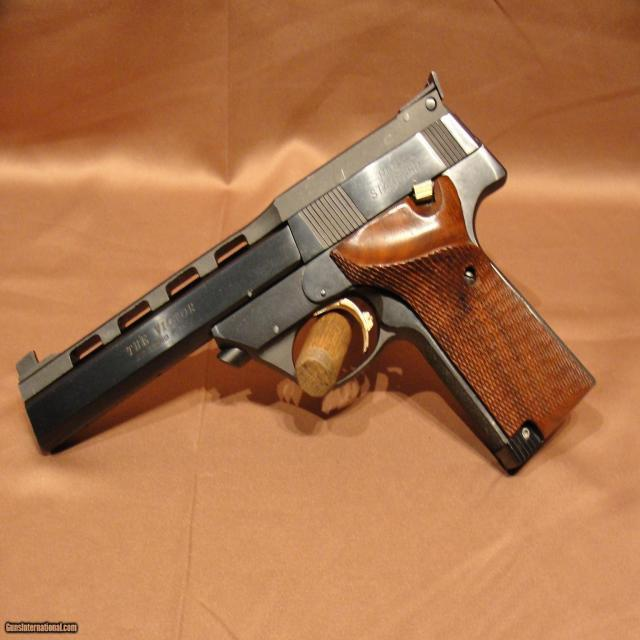Pistol: (7, 42, 620, 530)
